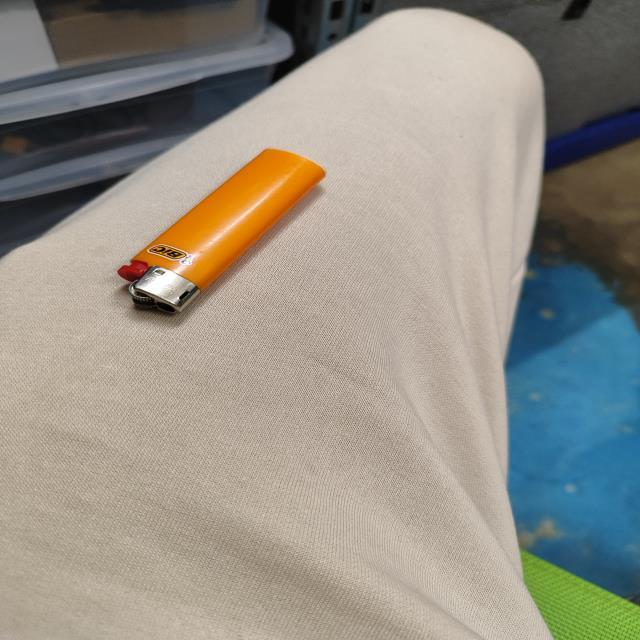lighter: (118, 149, 324, 312)
